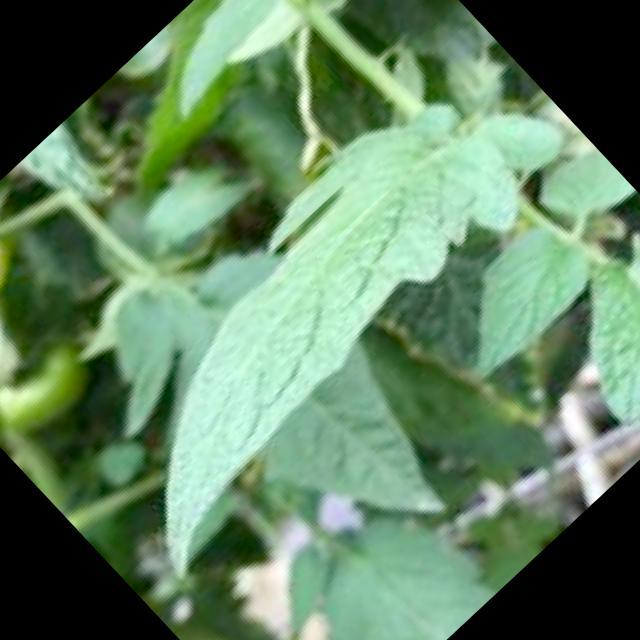Tomato healthy leaf: (165, 105, 572, 577), (481, 226, 591, 372), (589, 235, 640, 435), (543, 148, 638, 235)
